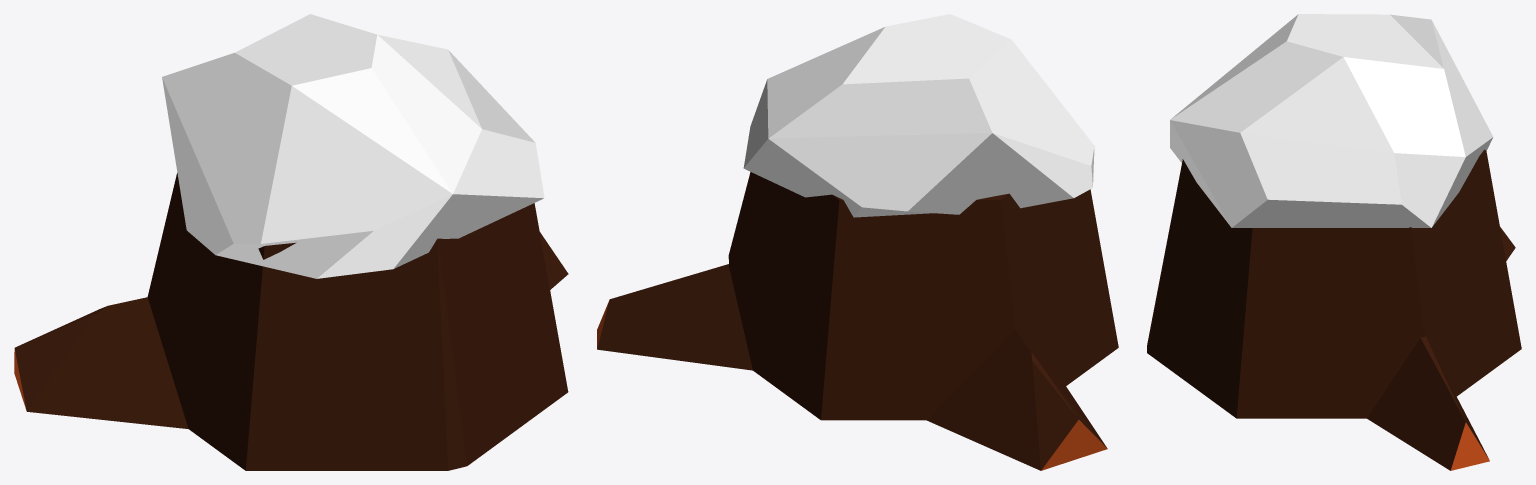
The model's file is trunk_snowy.obj.
The picture shows the model from 3 angles, left to right: view 1: azimuth 30°, elevation 25°; view 2: azimuth 150°, elevation 25°; view 3: azimuth 270°, elevation 25°; orthographic projection. The views are drawn at different scales.
Visible parts, largest first — view 1: Cylinder, Icosphere; view 2: Cylinder, Icosphere; view 3: Cylinder, Icosphere.
Part boxes in pixels (left/top/right/bottom): Cylinder: left=14, top=173, right=568, bottom=470; Icosphere: left=162, top=14, right=544, bottom=278; Cylinder: left=597, top=172, right=1118, bottom=470; Icosphere: left=743, top=14, right=1094, bottom=217; Cylinder: left=1147, top=149, right=1521, bottom=470; Icosphere: left=1170, top=14, right=1493, bottom=227.
Bounding box in the file's own units: 2.94 × 1.77 × 1.97.
